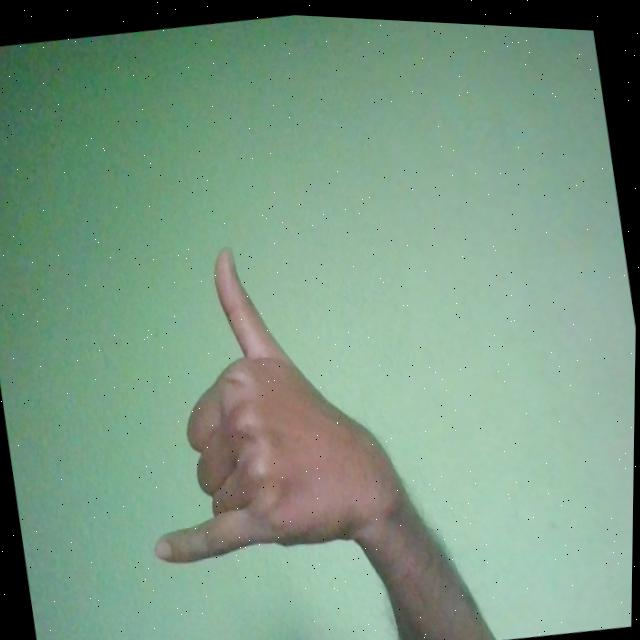Call Me: (111, 217, 423, 582)
